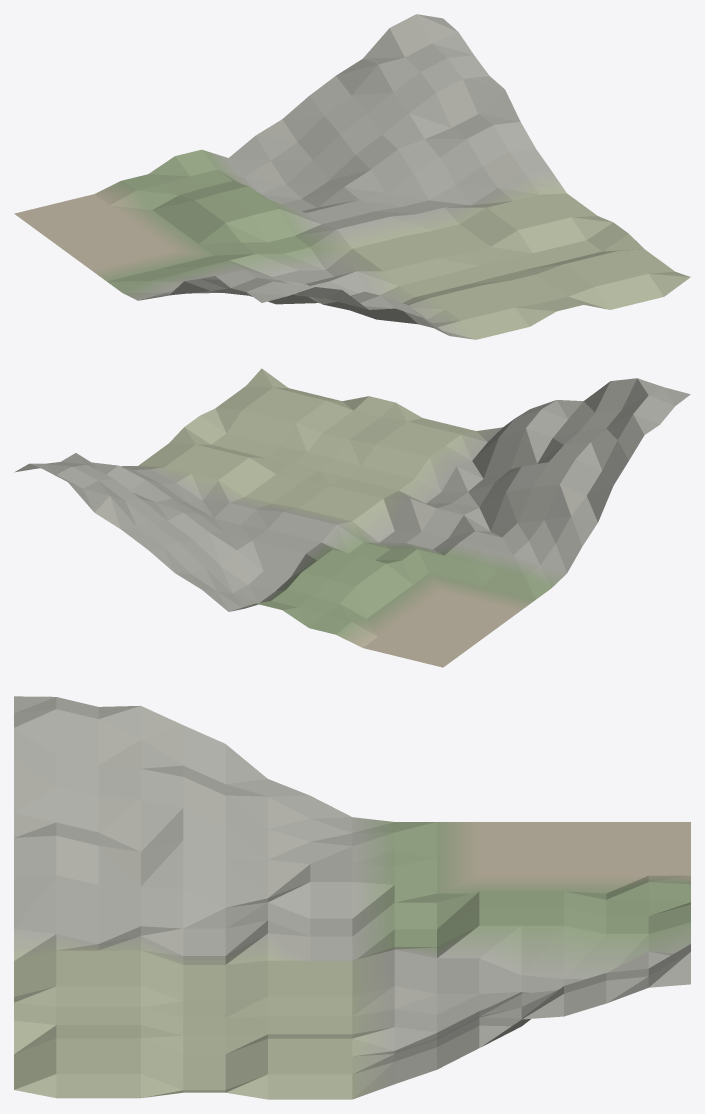
3 renders of one model, top to bottom at view 1: azimuth 30°, elevation 25°; view 2: azimuth 150°, elevation 25°; view 3: azimuth 270°, elevation 25°, orthographic. The views are drawn at different scales.
Bounding box in the file's own units: 32 × 8.04 × 32.
